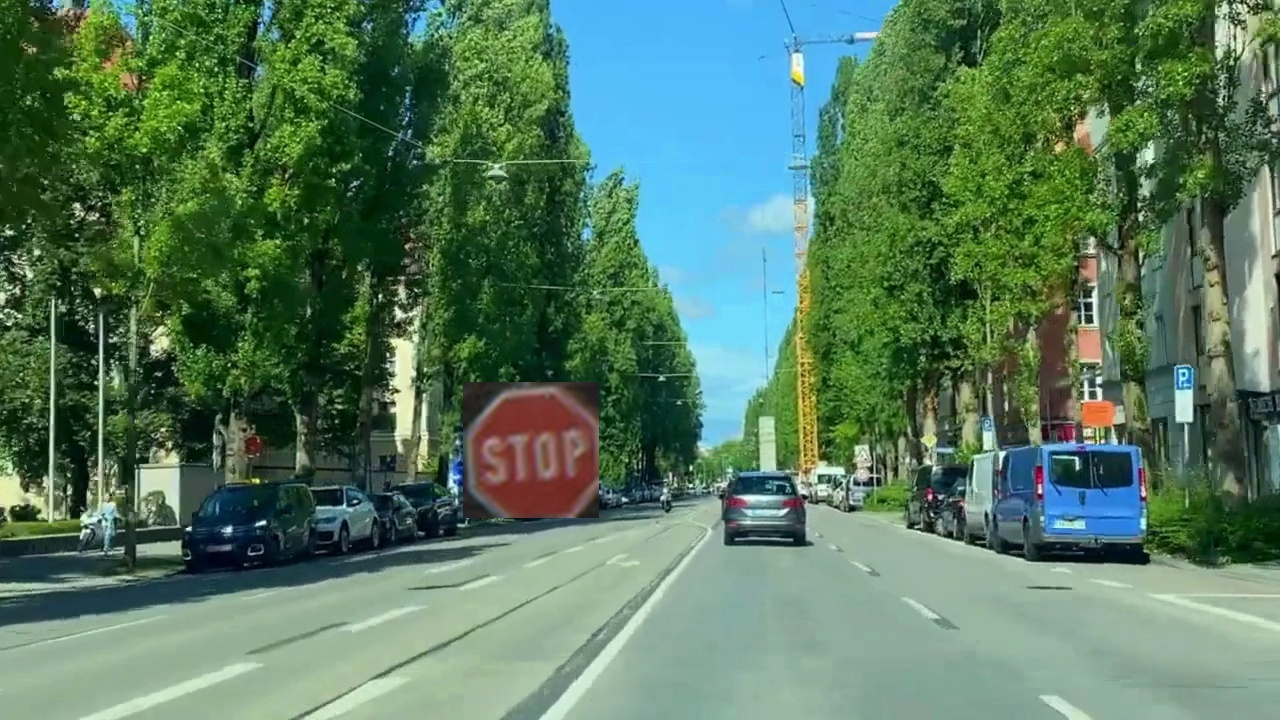Stop: (463, 382, 599, 518)
